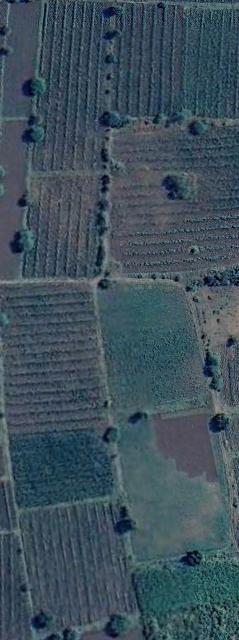EmptyFarms: (1, 0, 41, 120), (1, 118, 29, 285), (157, 412, 222, 481)
Farms: (106, 118, 239, 272), (16, 498, 145, 640), (96, 277, 216, 422), (115, 424, 234, 567), (5, 282, 112, 431), (113, 2, 239, 119), (31, 0, 113, 170), (6, 427, 119, 510), (30, 170, 108, 280), (139, 556, 239, 640)
